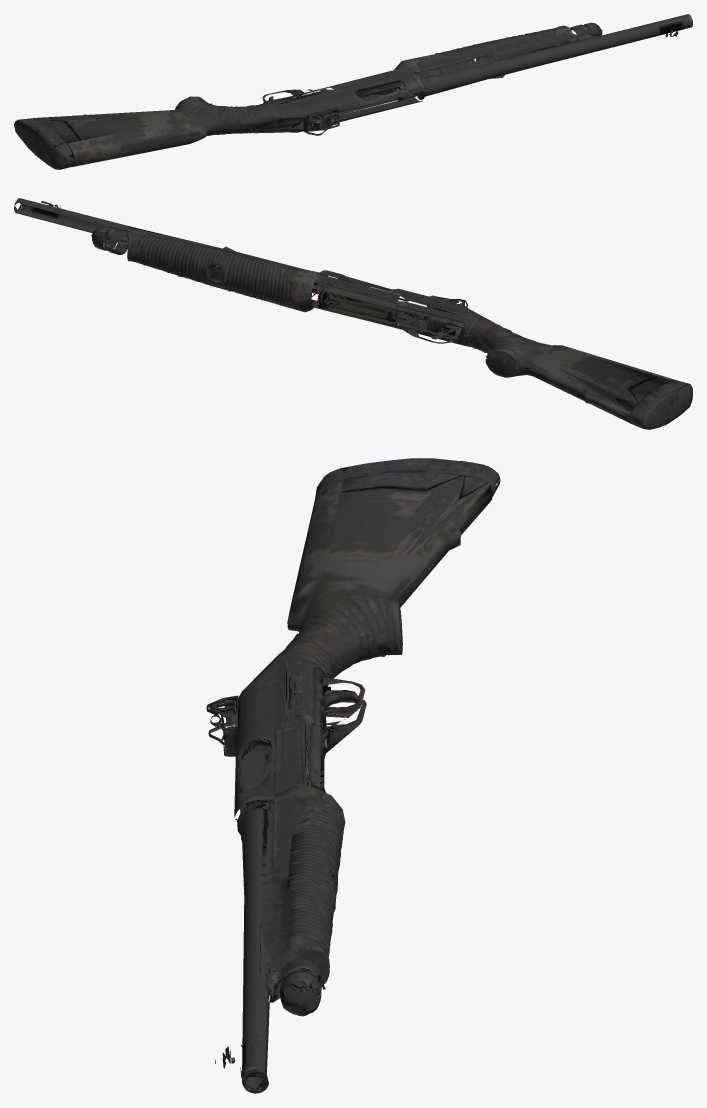
3 renders of one model, top to bottom at view 1: azimuth 30°, elevation 25°; view 2: azimuth 150°, elevation 25°; view 3: azimuth 270°, elevation 25°, orthographic. The views are drawn at different scales.
Visible parts, largest first — view 1: w_m3; view 2: w_m3; view 3: w_m3.
Part boxes in pixels (x1,y1,x2,y2): w_m3: [14, 14, 692, 169]; w_m3: [14, 198, 692, 429]; w_m3: [206, 458, 500, 1093].
Size of the model in its own units: 1.34 by 0.07 by 0.2756.
Materials: 1 (1 with a texture image).
